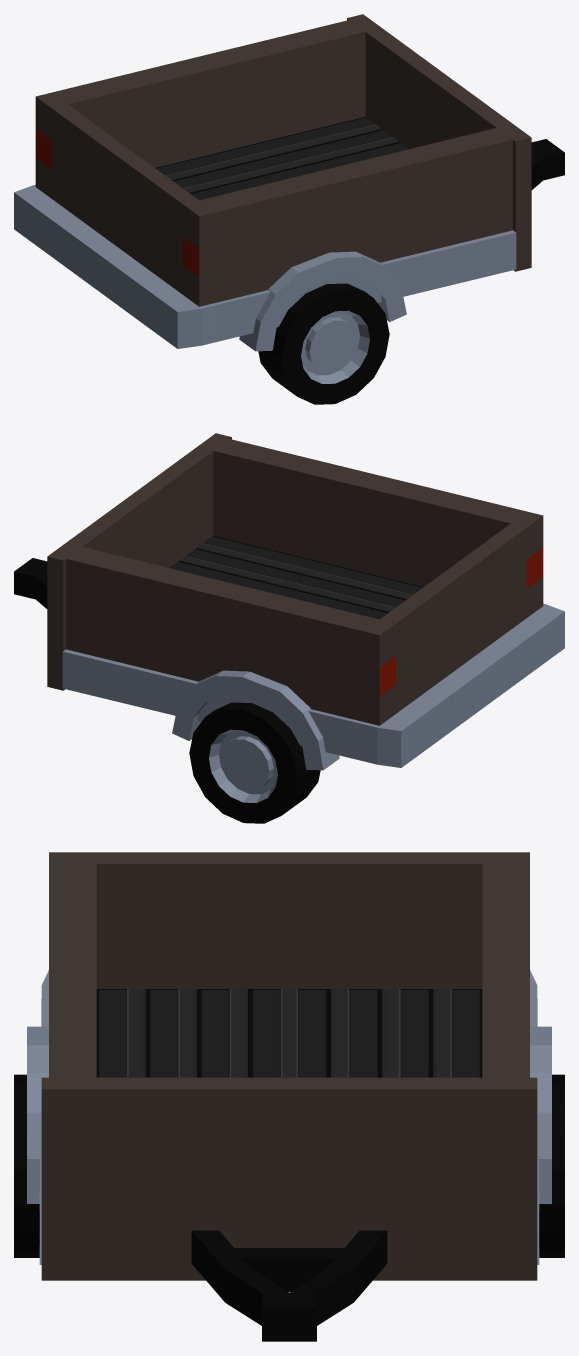
File: mod_obj_veh_Truck_Trailer.fbx
The picture shows the model from 3 angles, top to bottom: view 1: azimuth 30°, elevation 25°; view 2: azimuth 150°, elevation 25°; view 3: azimuth 270°, elevation 25°; orthographic projection. The views are drawn at different scales.
Visible parts, largest first — view 1: mainChassis, bumper, tailgate, backRight, mesh_Hitch; view 2: mainChassis, bumper, tailgate, backLeft, mesh_Hitch; view 3: mainChassis, tailgate, mesh_Hitch, bumper, backLeft, backRight.
Part boxes in pixels (<box>): mainChassis: <box>35,14,531,306</box>; bumper: <box>14,184,516,351</box>; tailgate: <box>52,104,198,294</box>; backRight: <box>258,283,389,404</box>; mesh_Hitch: <box>531,139,564,189</box>; mainChassis: <box>47,433,543,725</box>; bumper: <box>62,603,564,770</box>; tailgate: <box>380,523,526,713</box>; backLeft: <box>189,702,320,823</box>; mesh_Hitch: <box>14,558,47,608</box>; mainChassis: <box>41,852,537,1280</box>; tailgate: <box>96,852,482,988</box>; mesh_Hitch: <box>191,1230,387,1341</box>; bumper: <box>27,970,551,1264</box>; backLeft: <box>539,1074,564,1257</box>; backRight: <box>14,1074,39,1257</box>.
Size of the model in its own units: 850 by 370 by 600.
